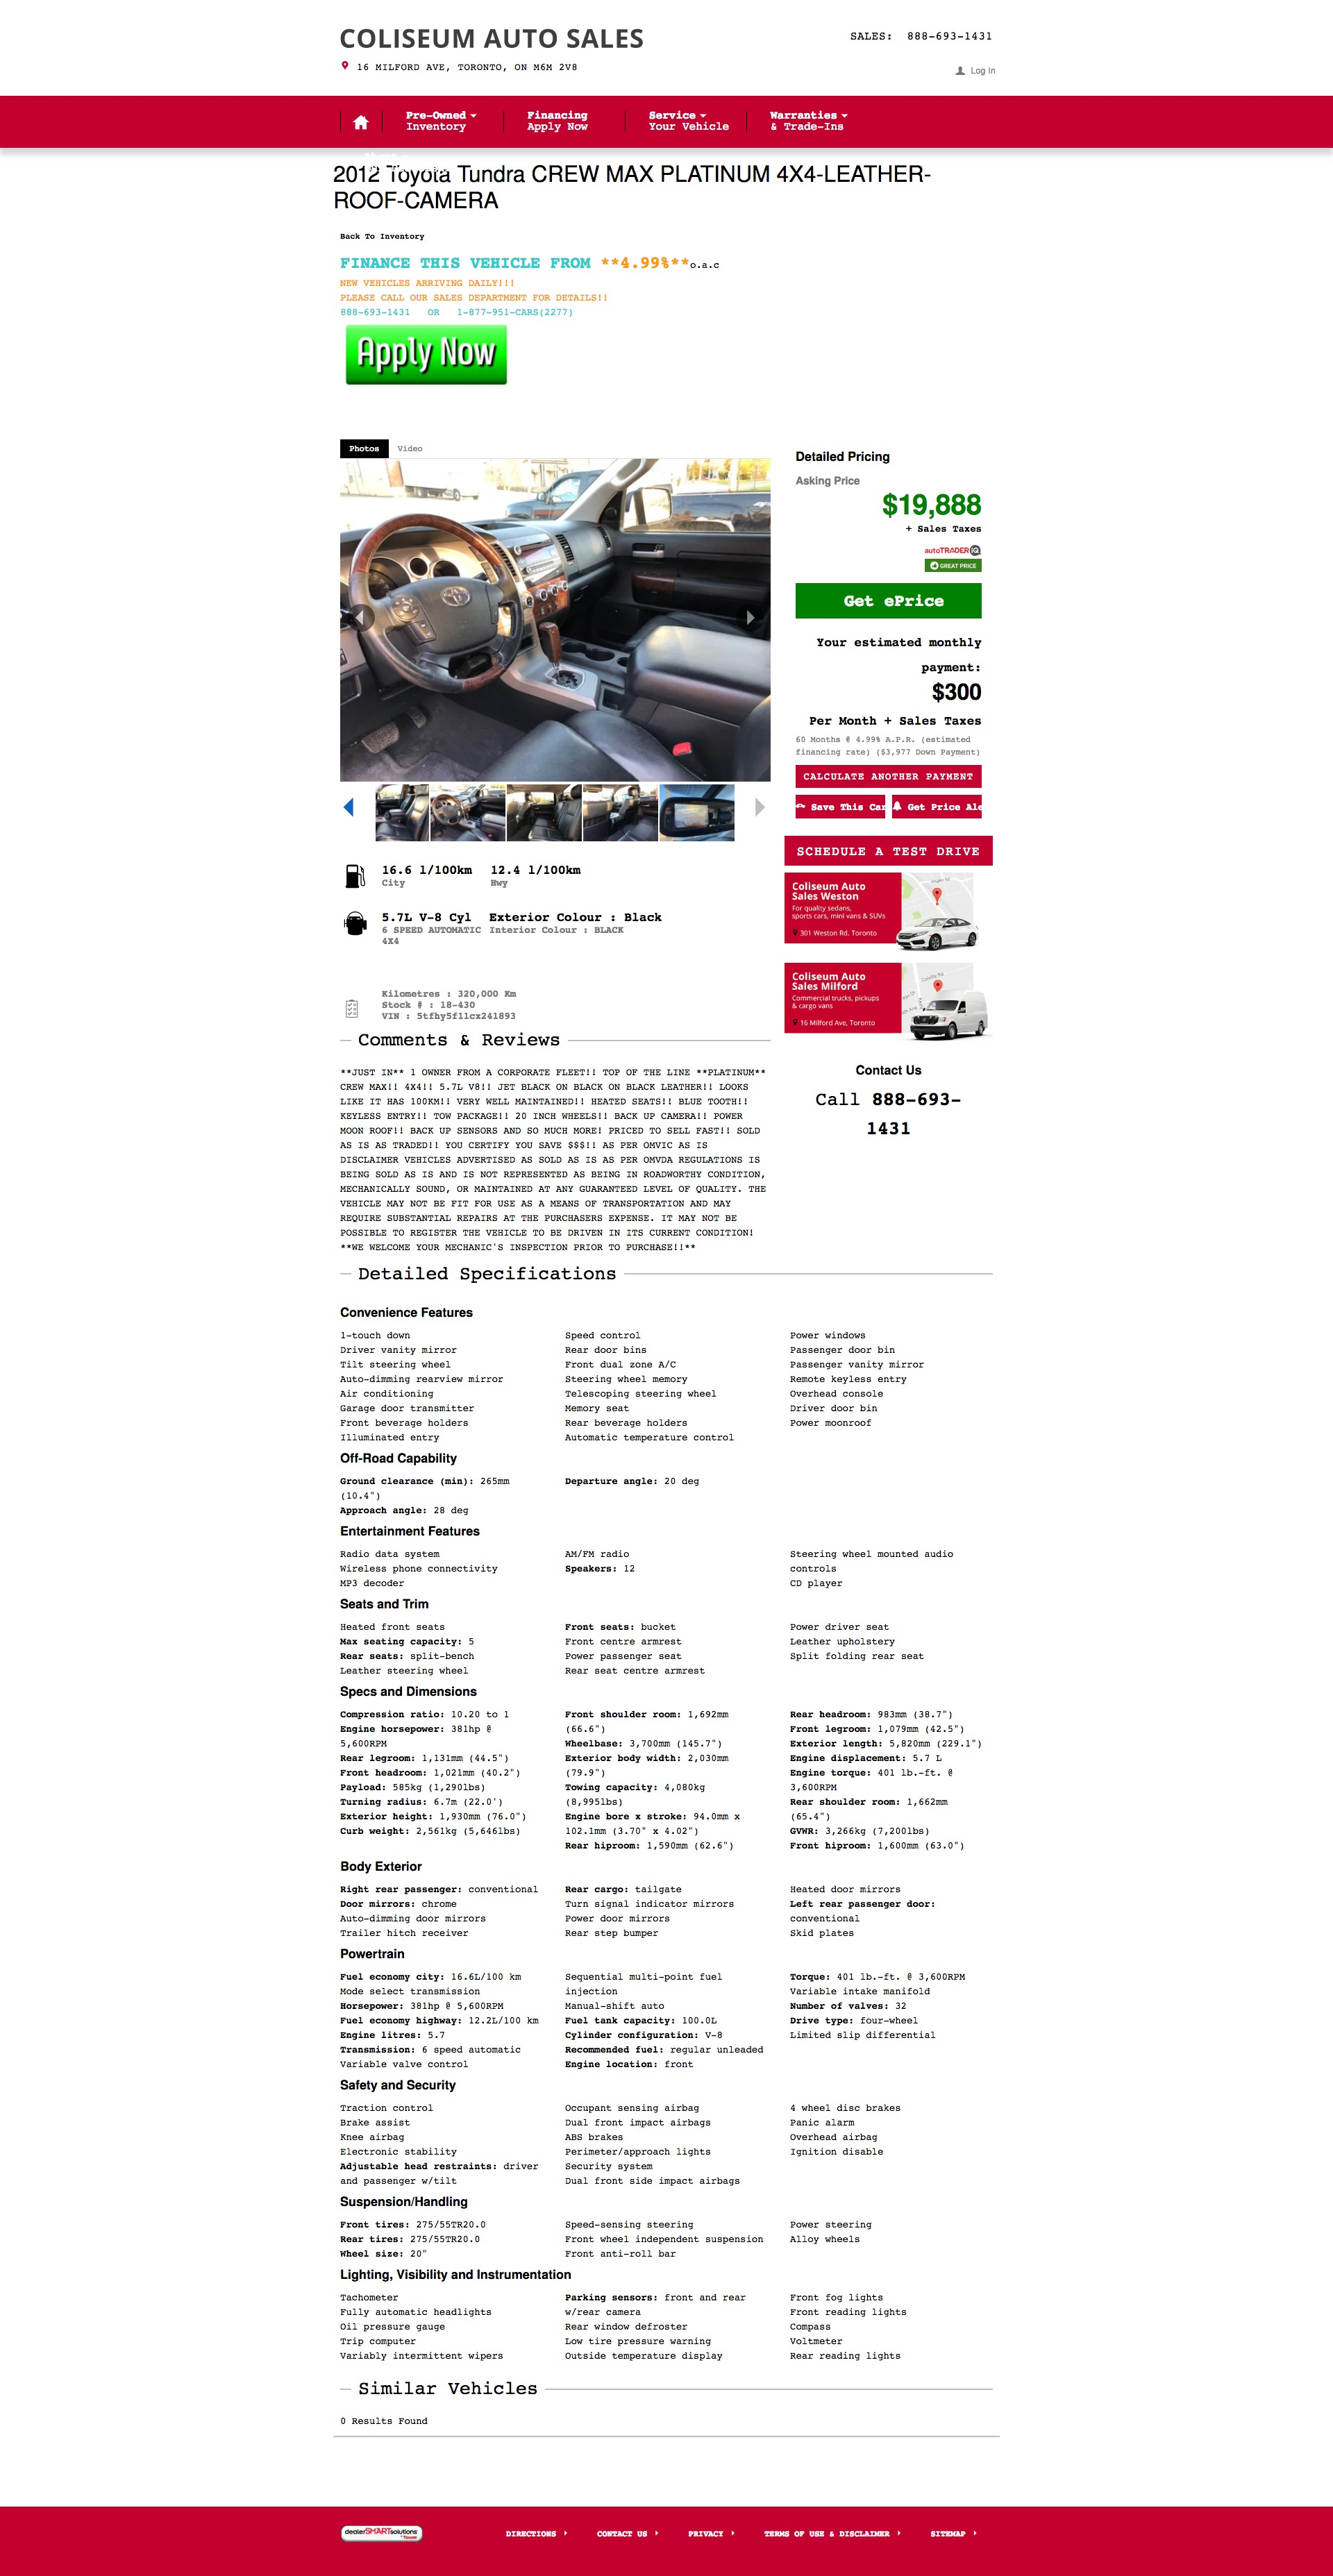car: (755, 797, 765, 817)
